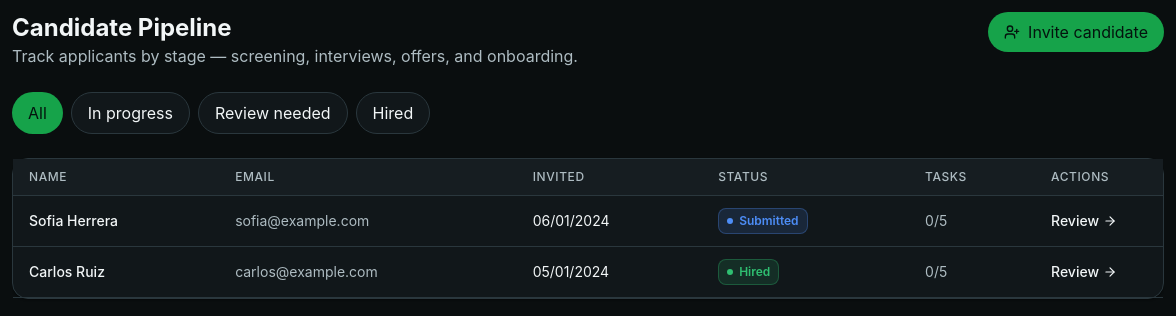
Test: CandidatePipelinePage › filters by Hired tab
The image size is (1176, 316).
Click the button "Hired".
click(393, 113)  # box [356,92,430,134]
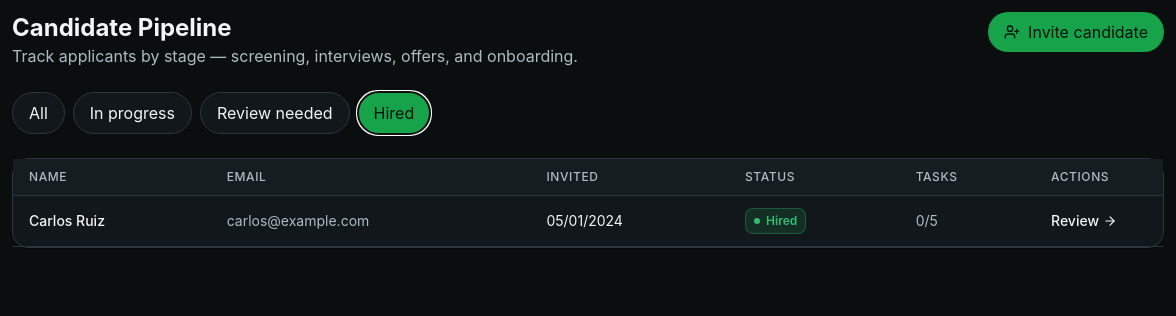
Expected: the text "Carlos Ruiz" is shown, [13,196,211,246]
Now the text "Sofia Herrera" is gone
